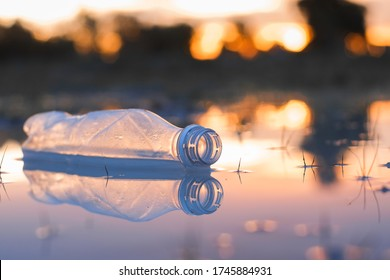plastic_bottle: (13, 69, 284, 239)
